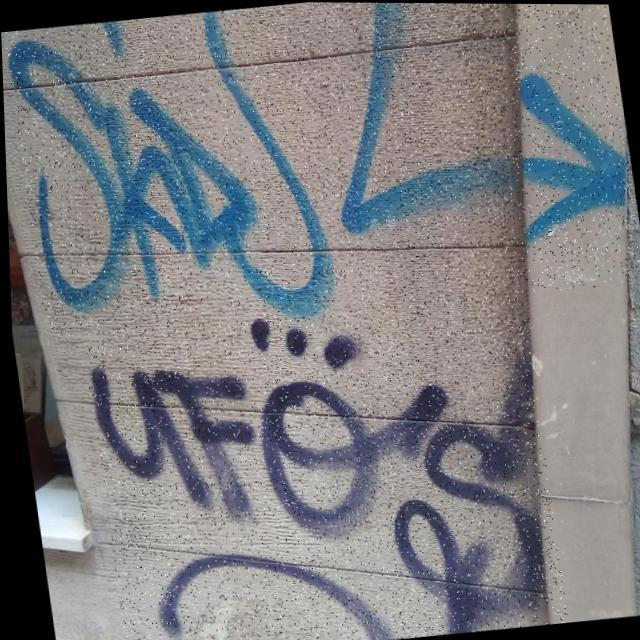-: (2, 0, 640, 344), (77, 288, 564, 640)
